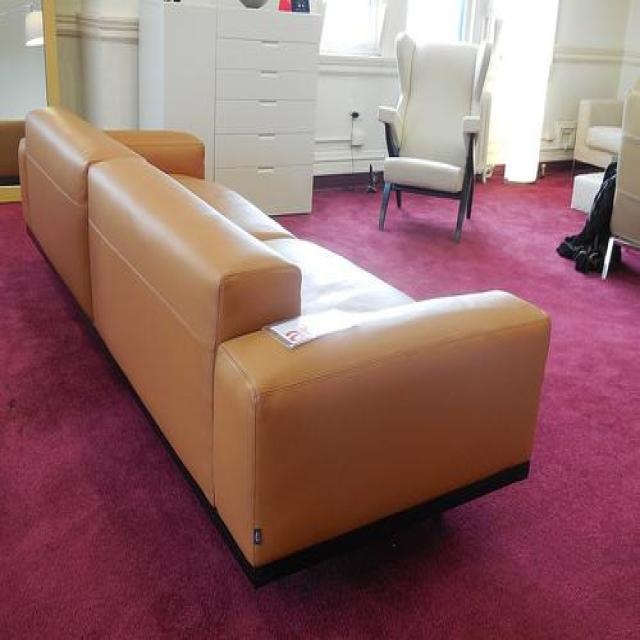sofa: (18, 106, 551, 594)
